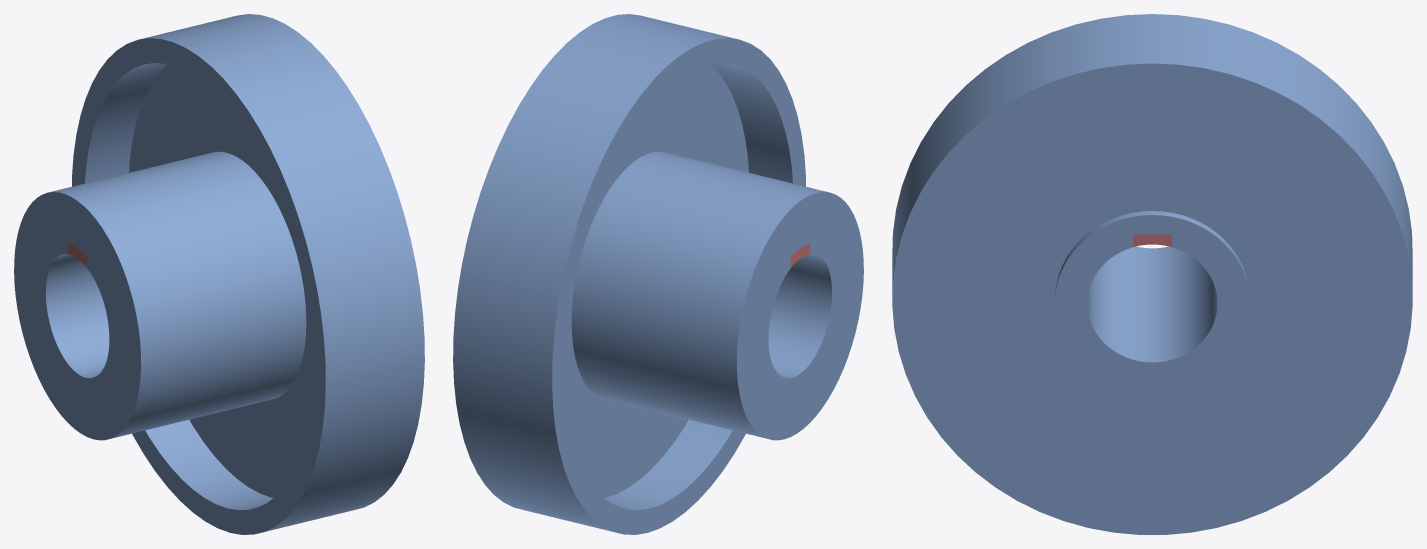
File: step_05.glb
The picture shows the model from 3 angles, left to right: view 1: azimuth 30°, elevation 25°; view 2: azimuth 150°, elevation 25°; view 3: azimuth 270°, elevation 25°; orthographic projection. The views are drawn at different scales.
Parts seen in each view (by area): view 1: part__flange A (spigot); view 2: part__flange A (spigot); view 3: part__flange A (spigot).
Part boxes in pixels (x1,y1,x2,y2): part__flange A (spigot): (14,14,424,534); part__flange A (spigot): (453,14,863,534); part__flange A (spigot): (892,14,1412,534).
Size of the model in its own units: 83 by 160 by 160.
